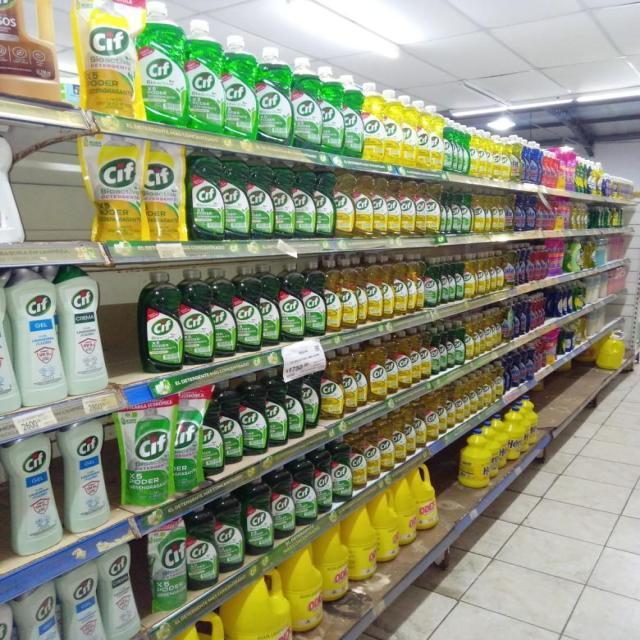ala_conc_amarillo: (504, 247, 516, 288), (496, 249, 504, 291)
ala_conc_azul: (523, 140, 539, 184), (515, 192, 525, 232), (526, 193, 536, 231)
ala_conc_rojo: (534, 244, 545, 282), (536, 194, 546, 231), (544, 195, 554, 230)
cif_conc_bot_amarilla: (320, 354, 342, 421), (334, 172, 354, 238), (341, 257, 358, 331), (384, 90, 401, 164), (354, 174, 372, 239), (368, 338, 386, 402), (326, 258, 341, 334), (402, 94, 417, 167), (366, 255, 382, 323), (343, 347, 357, 415), (372, 176, 387, 238), (350, 434, 366, 490), (416, 101, 429, 169), (394, 253, 407, 317), (400, 178, 414, 236), (387, 177, 400, 238), (430, 104, 442, 170), (366, 426, 380, 482), (407, 254, 420, 314), (426, 182, 440, 235), (380, 419, 394, 472), (383, 254, 394, 320), (386, 335, 398, 395), (398, 332, 410, 390), (470, 128, 482, 178), (394, 412, 405, 464), (410, 329, 420, 385), (496, 134, 508, 180), (416, 181, 426, 236), (420, 328, 430, 381), (406, 407, 416, 457), (465, 253, 475, 300), (416, 402, 426, 448), (474, 189, 484, 233), (427, 398, 437, 441), (492, 190, 502, 233), (486, 252, 496, 294), (476, 252, 485, 296), (484, 189, 492, 233), (438, 396, 446, 436), (447, 390, 455, 429)
cif_conc_botella_verde: (138, 1, 184, 126), (139, 270, 181, 372), (187, 18, 222, 133), (223, 34, 255, 139), (257, 46, 290, 144), (188, 151, 222, 242), (182, 268, 212, 364), (292, 57, 320, 150), (187, 514, 217, 590), (223, 154, 248, 241), (236, 265, 260, 352), (212, 267, 234, 358), (321, 64, 343, 154), (217, 500, 244, 572), (249, 158, 272, 241), (246, 483, 272, 555), (280, 262, 303, 342), (304, 260, 325, 338), (273, 163, 293, 240), (261, 263, 279, 346), (294, 165, 314, 239), (273, 472, 294, 538), (315, 170, 334, 239), (295, 461, 315, 525), (332, 438, 350, 502), (316, 451, 331, 514), (443, 114, 458, 173), (424, 254, 438, 308), (440, 256, 451, 304), (453, 321, 464, 367), (431, 326, 441, 376), (440, 184, 450, 234), (451, 186, 461, 234), (454, 254, 464, 302), (462, 187, 472, 234), (446, 322, 456, 368), (448, 255, 457, 303)
cif_conc_sachet_amarillo: (85, 0, 137, 118), (94, 136, 142, 242), (144, 141, 186, 242), (363, 84, 383, 162)
cif_conc_sachet_verde: (121, 403, 170, 507), (149, 522, 186, 613), (172, 394, 200, 493)
